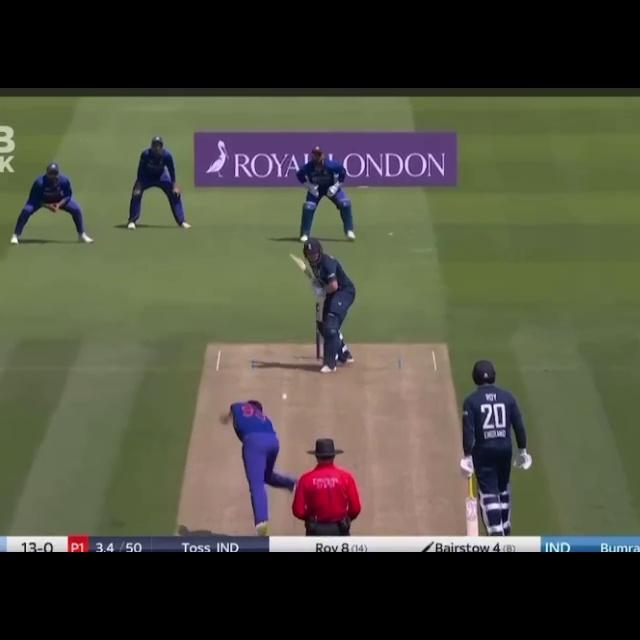umpire: (286, 435, 369, 537)
